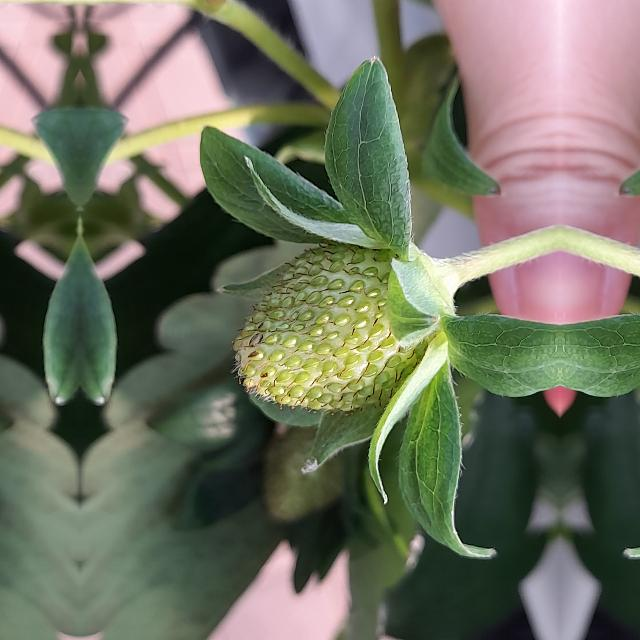Health_25: (230, 244, 428, 416)
